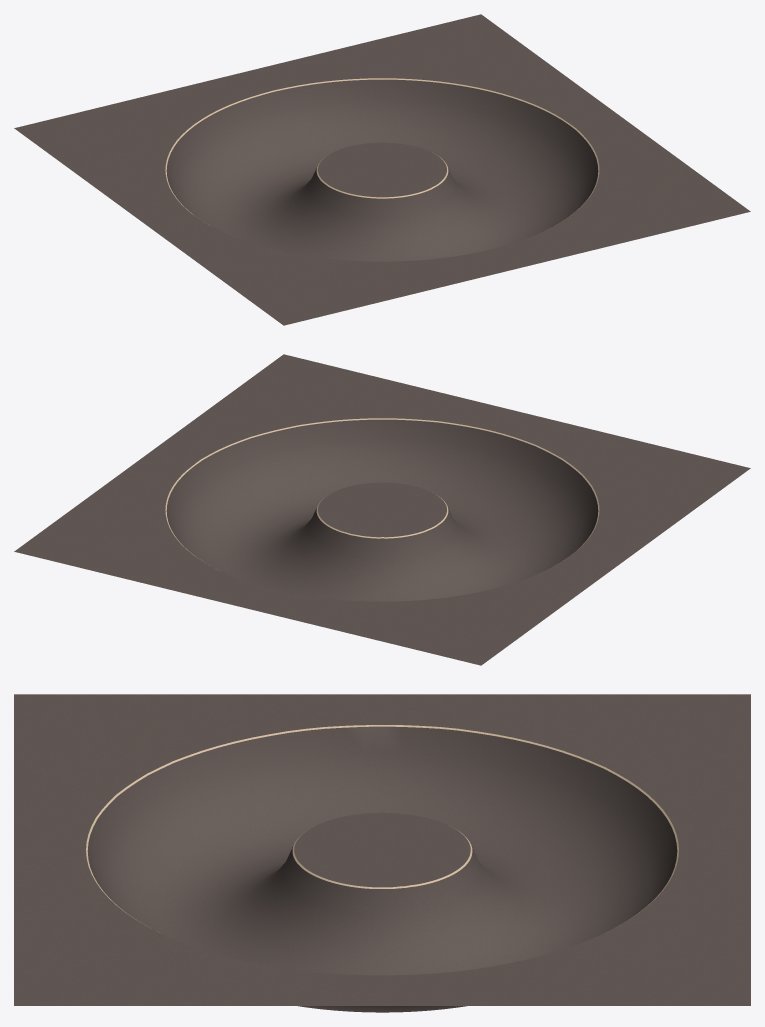
File: skatePark1.obj
The picture shows the model from 3 angles, top to bottom: view 1: azimuth 30°, elevation 25°; view 2: azimuth 150°, elevation 25°; view 3: azimuth 270°, elevation 25°; orthographic projection. The views are drawn at different scales.
Visible parts, largest first — view 1: Torus; view 2: Torus; view 3: Torus.
Boxes of the visible parts, box(x1,y1,x2,y2) form: Torus: box(14, 14, 750, 325); Torus: box(14, 354, 750, 665); Torus: box(14, 694, 750, 1012).
Bounding box in the file's own units: 40 × 4.3 × 40.
